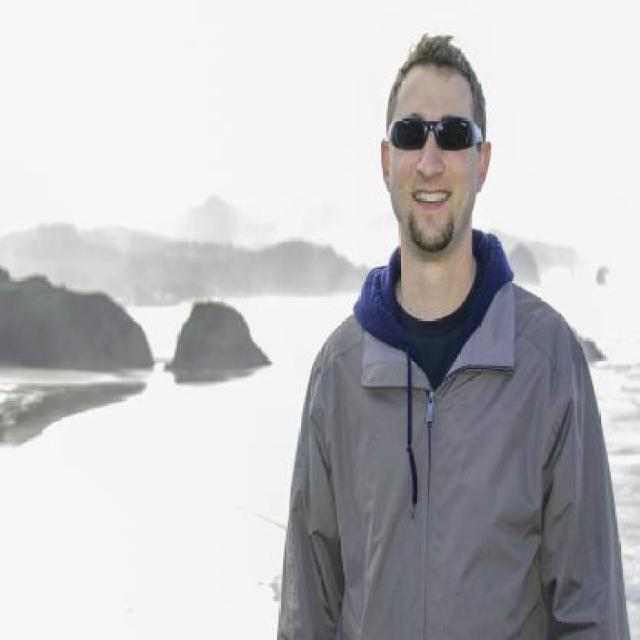face_nomask: (381, 113, 487, 221)
glasses: (393, 116, 485, 162)
head_nohelmet: (367, 29, 498, 92)
person: (258, 14, 640, 640)
